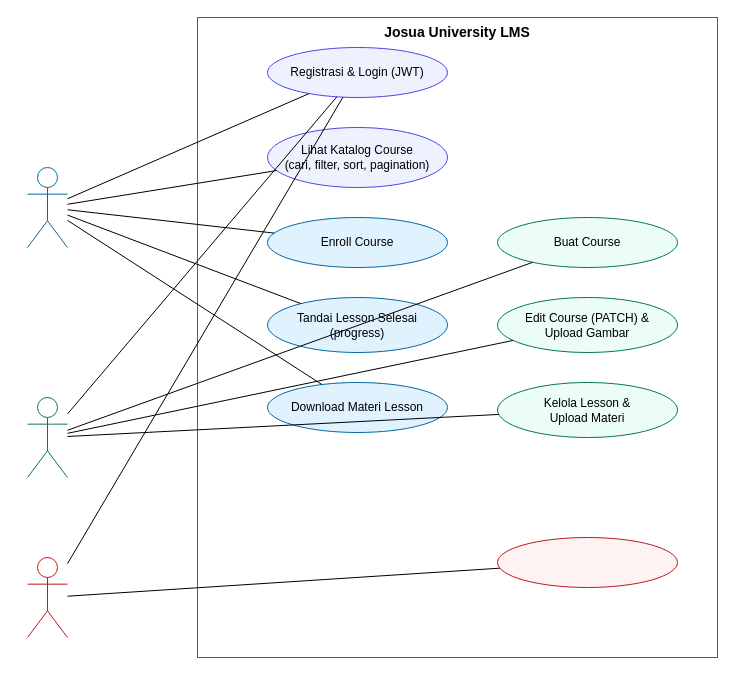
The diagram is 735 pixels wide and 676 high, and some of its shapes have lost their labels. The shapes that lost their labels are listed below. From the top down, each one's centre as x and y in pixels, then its label:
(x=47, y=207): Mahasiswa
(x=47, y=437): Dosen
(x=587, y=562): Hapus Course
(x=47, y=597): Admin
